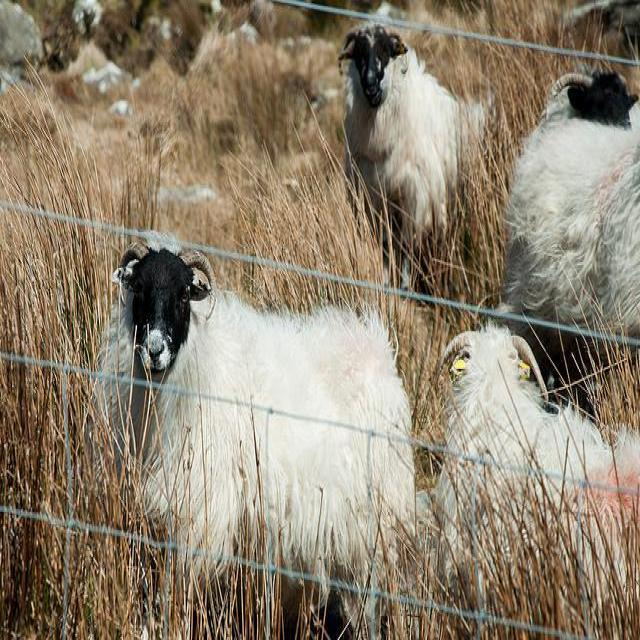Sheep: (91, 229, 420, 637), (432, 328, 638, 602), (339, 21, 498, 301), (506, 71, 639, 342)
